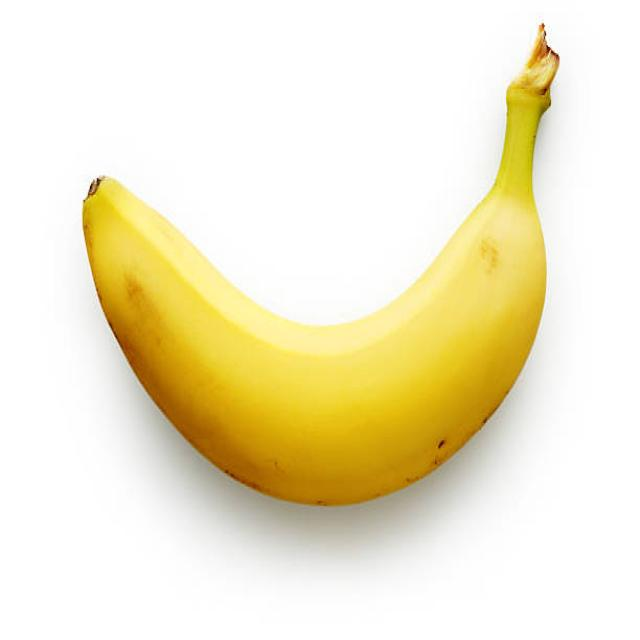Ripe: (78, 80, 553, 513)
